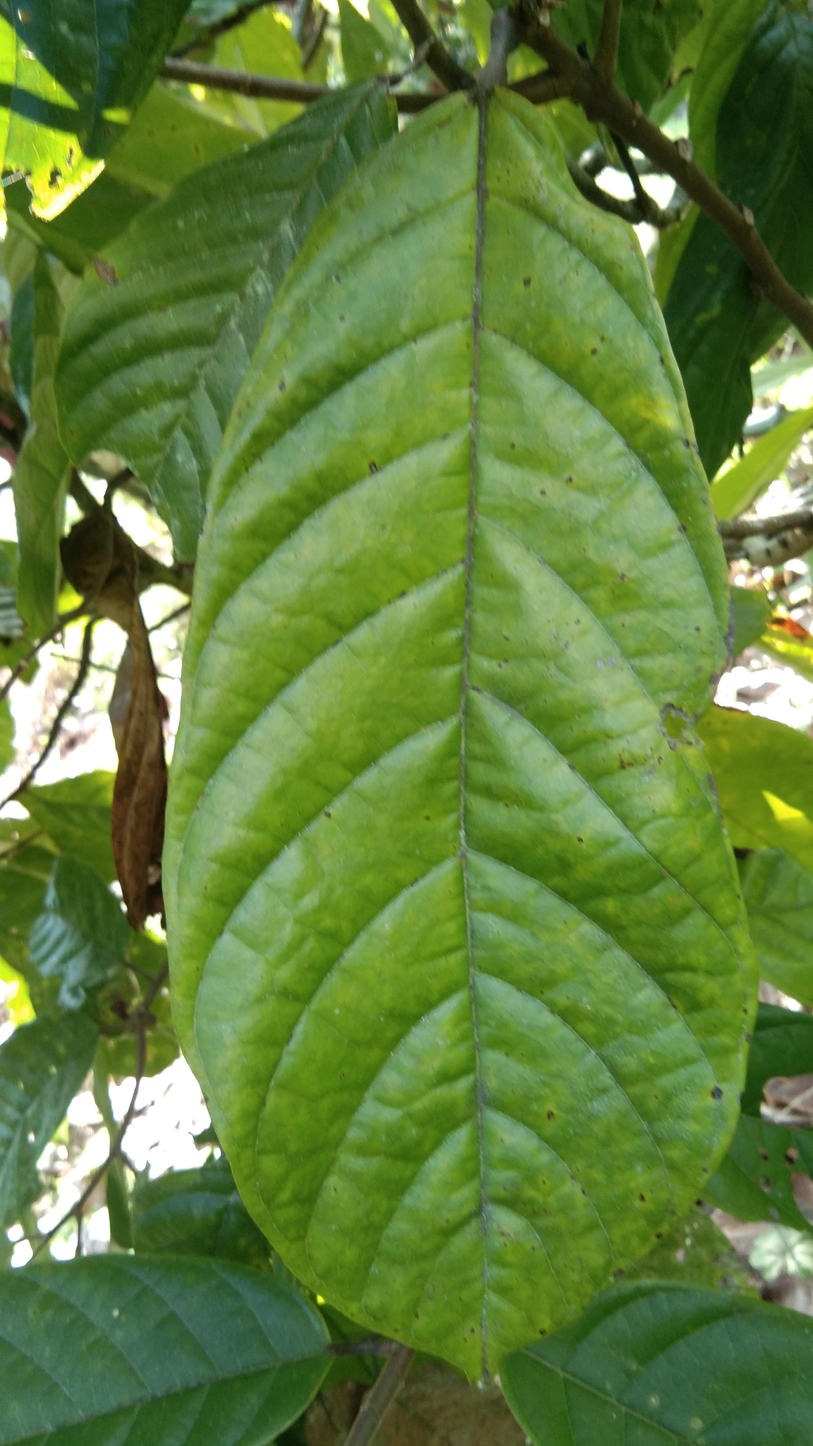deficiencia_potasio: (170, 74, 769, 1381)
